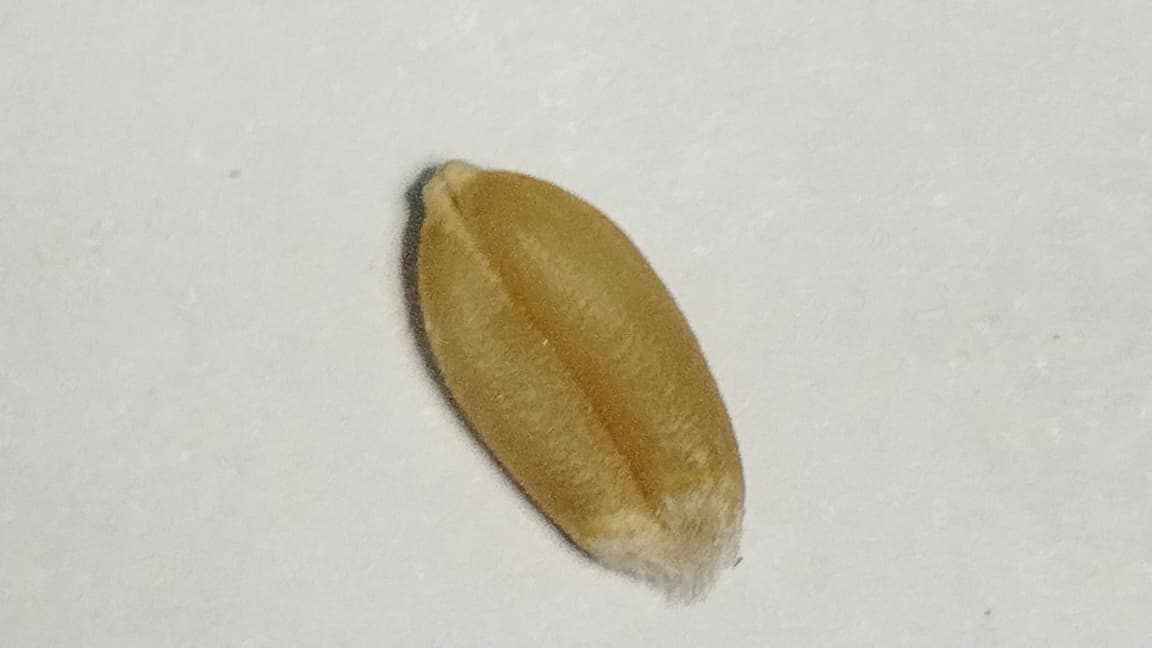healthy: (416, 161, 743, 571)
